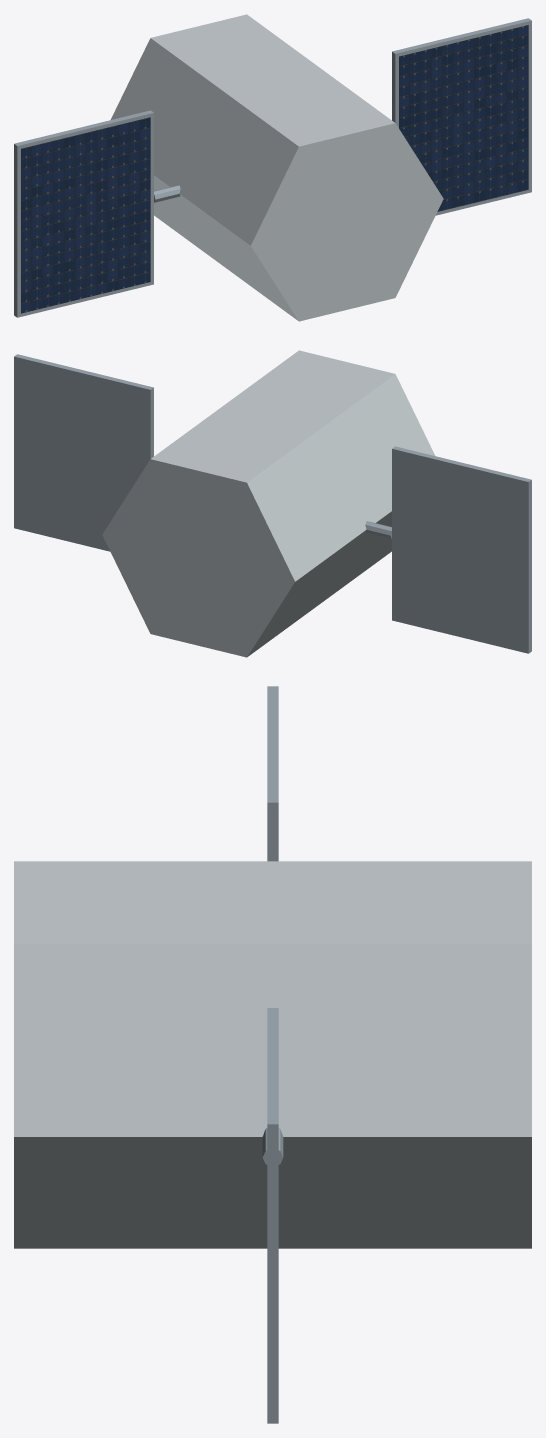
File: ref-leostar-t-200-23105.glb
The picture shows the model from 3 angles, top to bottom: view 1: azimuth 30°, elevation 25°; view 2: azimuth 150°, elevation 25°; view 3: azimuth 270°, elevation 25°; orthographic projection. The views are drawn at different scales.
Parts seen in each view (by area): view 1: Spacecraft body, Photovoltaic laminates (×2), Array frame (×2); view 2: Spacecraft body, Array frame (×2); view 3: Spacecraft body, Array frame (×2).
Boxes of the visible parts, x1,y1,x2,y2 form: Spacecraft body: (110,14,443,321); Photovoltaic laminates (×2): (21,25,528,313); Array frame (×2): (14,18,531,317); Spacecraft body: (102,350,435,657); Array frame (×2): (14,354,531,653); Spacecraft body: (14,861,531,1248); Array frame (×2): (267,686,278,1423).
Size of the model in its own units: 4 by 1.3 by 2.
3 materials, 1 textured.
